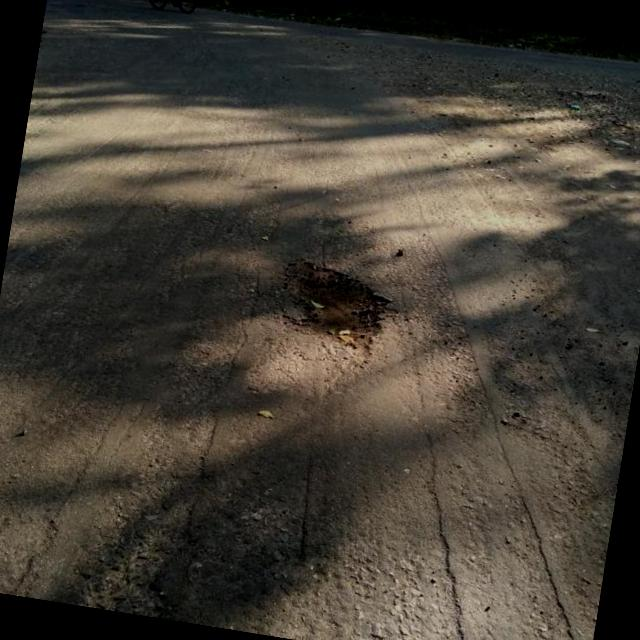pothole: (268, 254, 404, 364)
